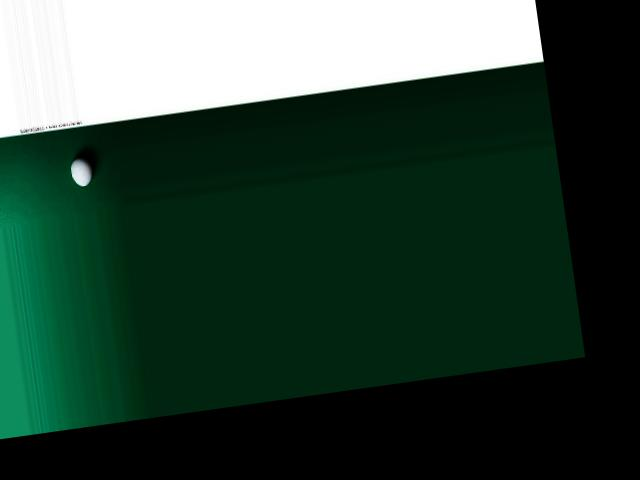egg: (67, 155, 93, 187)
